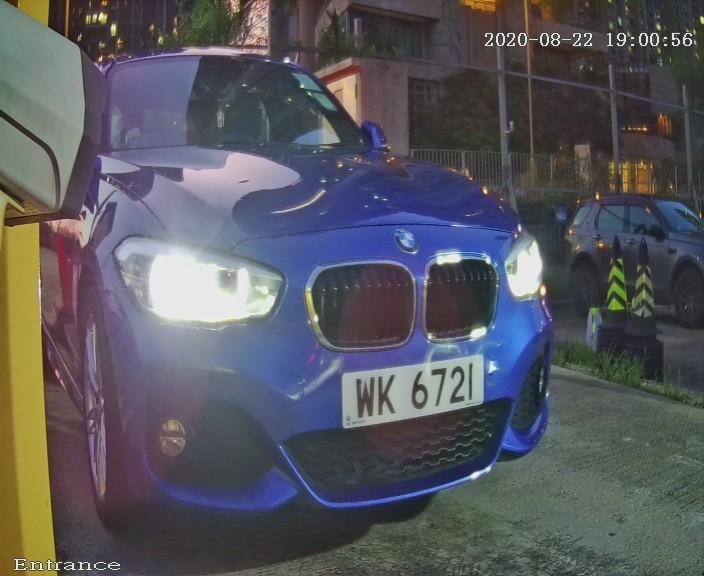Car: (19, 6, 607, 571)
License Plate: (301, 334, 518, 450)
